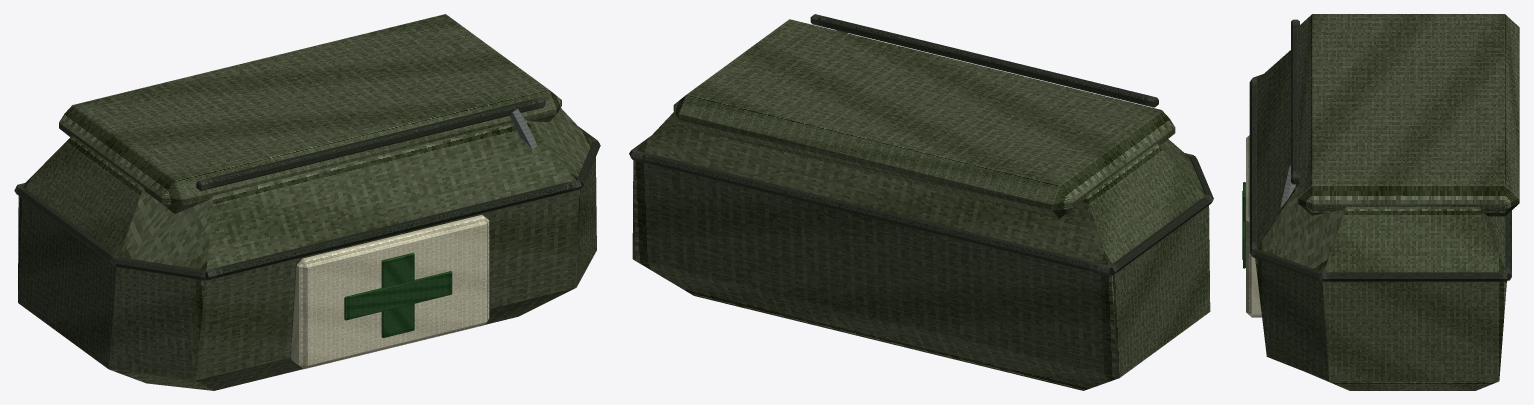
File: blender_health_supplies_2.glb
3 renders of one model, left to right at view 1: azimuth 30°, elevation 25°; view 2: azimuth 150°, elevation 25°; view 3: azimuth 270°, elevation 25°, orthographic. The views are drawn at different scales.
Visible parts, largest first — view 1: blender_health_supplies_2; view 2: blender_health_supplies_2; view 3: blender_health_supplies_2.
Boxes of the visible parts, left/top/right/bottom form: blender_health_supplies_2: left=14, top=14, right=600, bottom=390; blender_health_supplies_2: left=629, top=14, right=1213, bottom=390; blender_health_supplies_2: left=1242, top=14, right=1519, bottom=390.
Size of the model in its own units: 0.18 by 0.0765 by 0.0944.
Materials: 5 (5 with a texture image).
